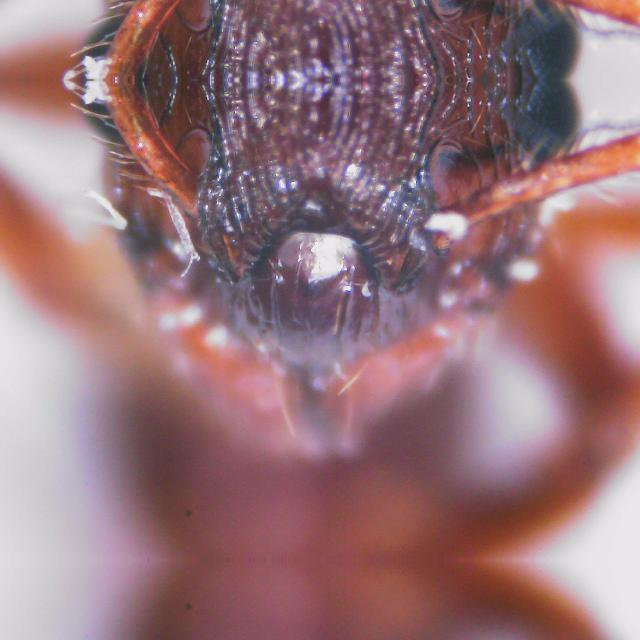Myrmica: (0, 82, 540, 504)
